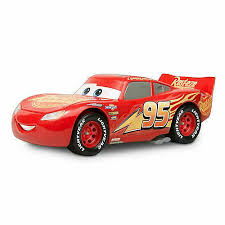mcqueen: (10, 73, 217, 159)
